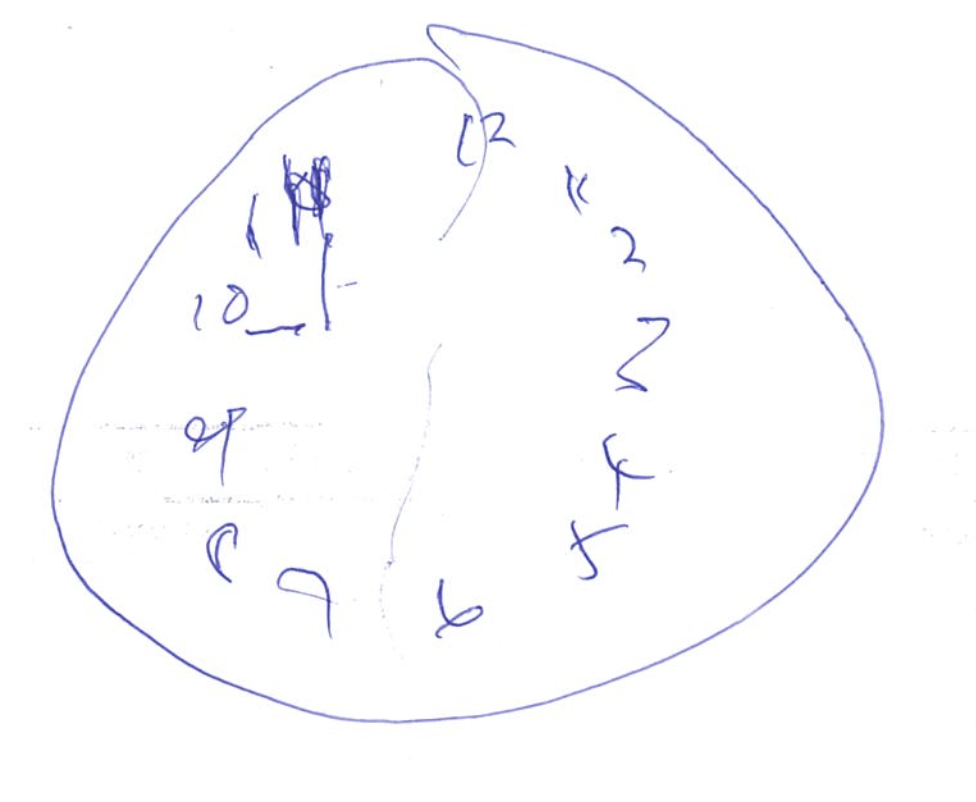10: (189, 280, 251, 334)
12: (449, 104, 518, 170)
2: (607, 225, 649, 277)
3: (611, 299, 670, 396)
4: (599, 427, 656, 513)
5: (568, 513, 633, 585)
6: (428, 577, 491, 638)
7: (272, 566, 337, 645)
contour: (44, 22, 890, 727)
